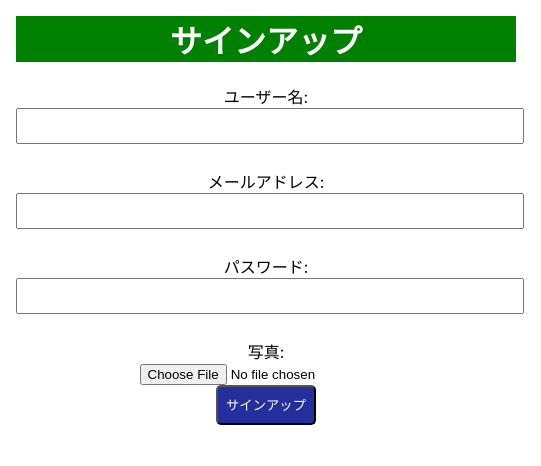
Test: ログインフォームのテスト › 記入欄に空欄がある場合
Type "ss@example.com" into the field with id "email" at (270, 211), box [16,193,524,229]
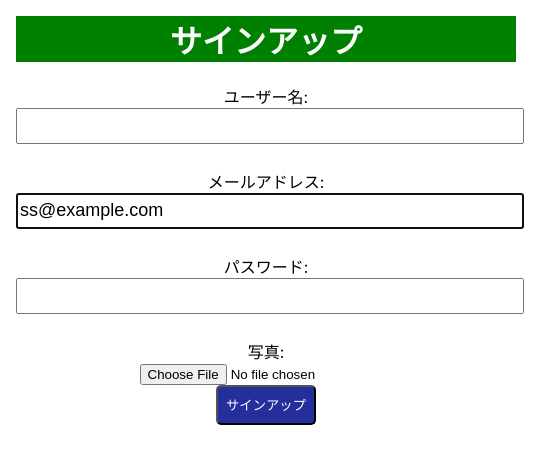
Type "ss" into the password field labelled "パスワード:" at (270, 296), box [16,278,524,314]
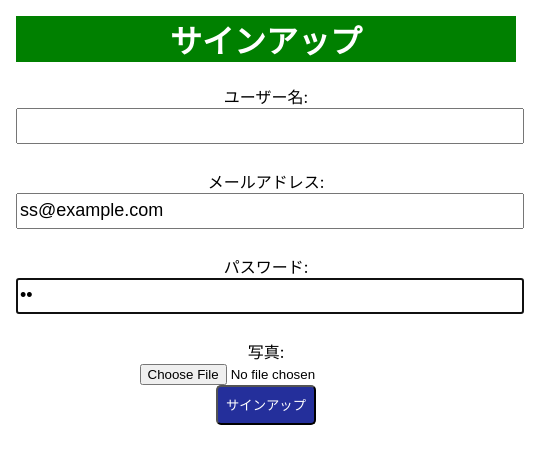
Click the button "サインアップ" at (266, 405), box [216,385,316,425]
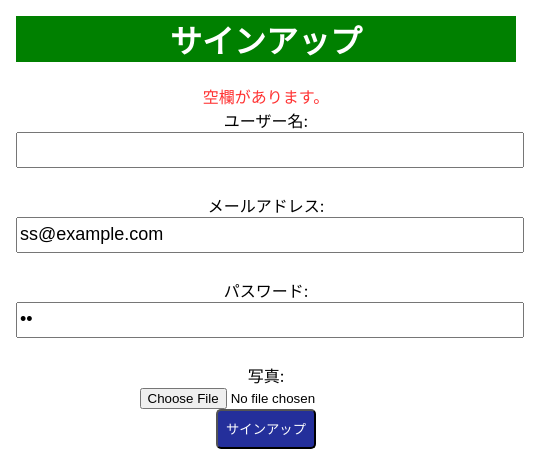
Expected: the text with class "error-message" reads "空欄があります。", [203,87,329,107]
